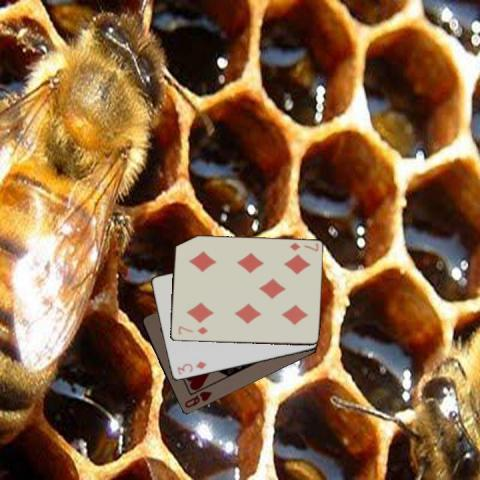3d: (174, 359, 208, 376)
7d: (176, 323, 210, 336), (287, 240, 319, 253)
Qh: (182, 389, 214, 409)
